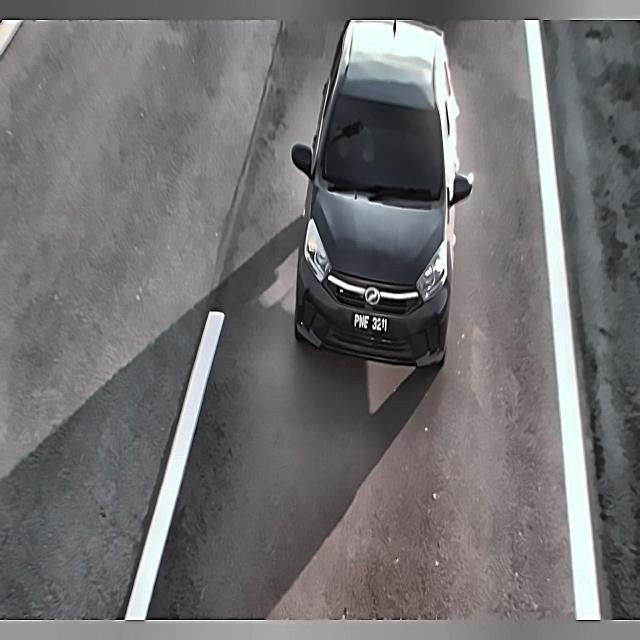car: (351, 305, 391, 346)
